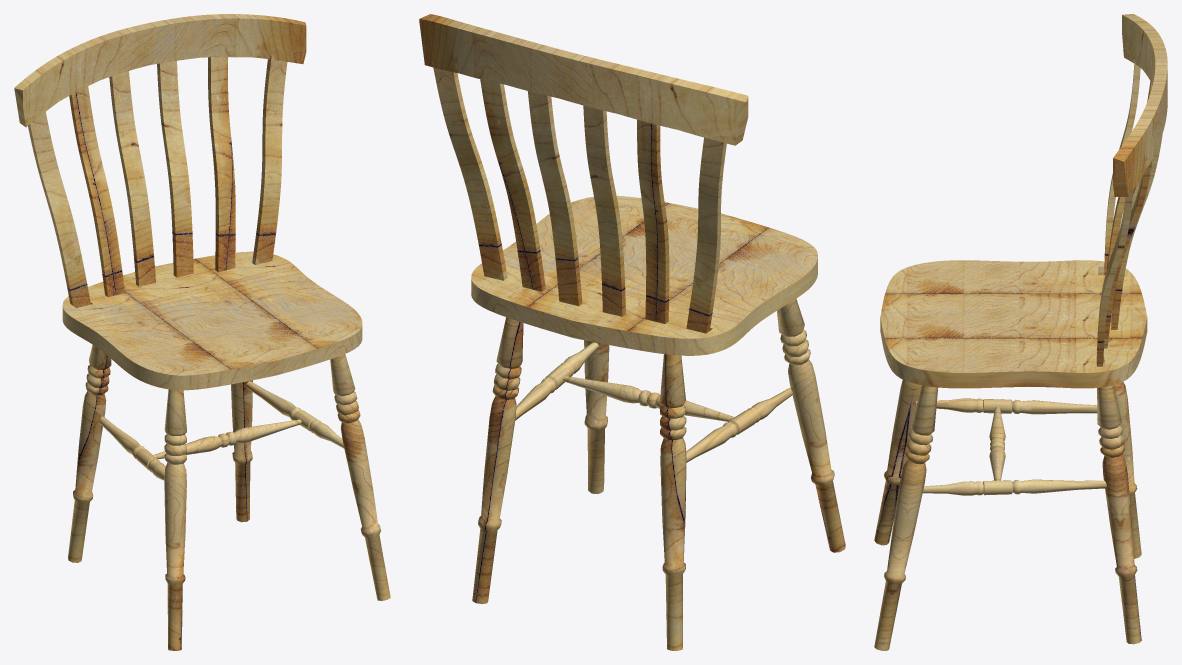
3 renders of one model, left to right at view 1: azimuth 30°, elevation 25°; view 2: azimuth 150°, elevation 25°; view 3: azimuth 270°, elevation 25°, orthographic. The views are drawn at different scales.
Parts seen in each view (by area): view 1: SketchUp.002_ID29, SketchUp.018_ID157, SketchUp.015_ID133, SketchUp.014_ID125, SketchUp.004_ID45, SketchUp.001_ID21, SketchUp_ID2, SketchUp.006_ID61, SketchUp.007_ID69, SketchUp.011_ID101, SketchUp.003_ID37, SketchUp.017_ID149 (+3 smaller); view 2: SketchUp.002_ID29, SketchUp.018_ID157, SketchUp.011_ID101, SketchUp.017_ID149, SketchUp.015_ID133, SketchUp.007_ID69, SketchUp.004_ID45, SketchUp_ID2, SketchUp.001_ID21, SketchUp.006_ID61, SketchUp.003_ID37, SketchUp.014_ID125 (+3 smaller); view 3: SketchUp.002_ID29, SketchUp.014_ID125, SketchUp.018_ID157, SketchUp.017_ID149, SketchUp.015_ID133, SketchUp.016_ID141, SketchUp.012_ID109, SketchUp.007_ID69, SketchUp.011_ID101, SketchUp.003_ID37, SketchUp_ID2, SketchUp.013_ID117 (+2 smaller).
Boxes of the visible parts, x1=… form: SketchUp.002_ID29: x1=62, y1=251, x2=362, y2=390; SketchUp.018_ID157: x1=14, y1=14, x2=306, y2=127; SketchUp.015_ID133: x1=164, y1=389, x2=186, y2=650; SketchUp.014_ID125: x1=330, y1=354, x2=390, y2=600; SketchUp.004_ID45: x1=157, y1=61, x2=193, y2=277; SketchUp.001_ID21: x1=109, y1=71, x2=155, y2=286; SketchUp_ID2: x1=208, y1=57, x2=235, y2=272; SketchUp.006_ID61: x1=69, y1=86, x2=124, y2=296; SketchUp.007_ID69: x1=252, y1=55, x2=287, y2=265; SketchUp.011_ID101: x1=68, y1=344, x2=111, y2=562; SketchUp.003_ID37: x1=28, y1=108, x2=92, y2=308; SketchUp.017_ID149: x1=231, y1=380, x2=252, y2=522; SketchUp.002_ID29: x1=471, y1=195, x2=817, y2=355; SketchUp.018_ID157: x1=419, y1=14, x2=748, y2=145; SketchUp.011_ID101: x1=659, y1=354, x2=686, y2=650; SketchUp.017_ID149: x1=472, y1=317, x2=523, y2=604; SketchUp.015_ID133: x1=777, y1=298, x2=845, y2=552; SketchUp.007_ID69: x1=432, y1=62, x2=507, y2=280; SketchUp.004_ID45: x1=527, y1=91, x2=582, y2=306; SketchUp_ID2: x1=480, y1=79, x2=545, y2=291; SketchUp.001_ID21: x1=583, y1=105, x2=625, y2=316; SketchUp.006_ID61: x1=637, y1=119, x2=669, y2=323; SketchUp.003_ID37: x1=686, y1=137, x2=726, y2=333; SketchUp.014_ID125: x1=584, y1=340, x2=609, y2=493; SketchUp.002_ID29: x1=880, y1=260, x2=1147, y2=388; SketchUp.014_ID125: x1=874, y1=385, x2=938, y2=650; SketchUp.018_ID157: x1=1113, y1=14, x2=1167, y2=196; SketchUp.017_ID149: x1=1097, y1=385, x2=1141, y2=644; SketchUp.015_ID133: x1=874, y1=380, x2=921, y2=545; SketchUp.016_ID141: x1=922, y1=479, x2=1106, y2=495; SketchUp.012_ID109: x1=916, y1=398, x2=1097, y2=414; SketchUp.007_ID69: x1=1096, y1=185, x2=1133, y2=366; SketchUp.011_ID101: x1=1114, y1=382, x2=1141, y2=558; SketchUp.003_ID37: x1=1098, y1=60, x2=1140, y2=275; SketchUp_ID2: x1=1104, y1=159, x2=1152, y2=348; SketchUp.013_ID117: x1=989, y1=406, x2=1005, y2=480.
Bounding box in the file's own units: 4.21 × 7.06 × 3.56.
2 materials, 1 textured.
